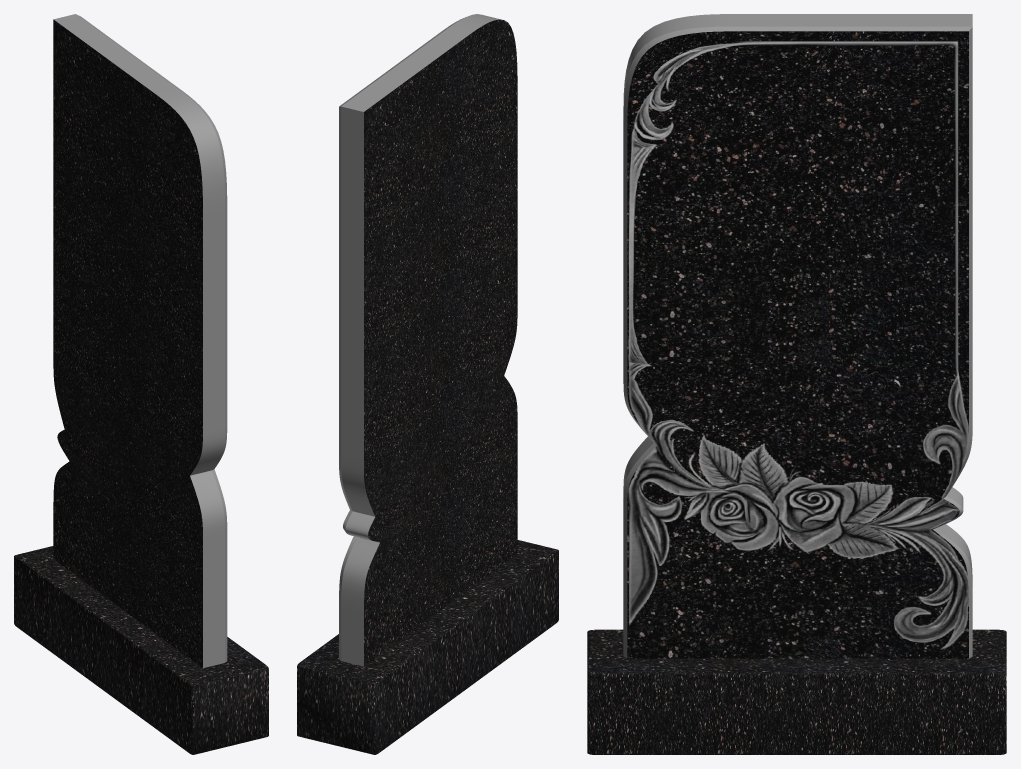
The model's file is Памятник  Роза [granite_1_standard] (100).glb.
3 renders of one model, left to right at view 1: azimuth 30°, elevation 25°; view 2: azimuth 150°, elevation 25°; view 3: azimuth 270°, elevation 25°, orthographic. The views are drawn at different scales.
Parts seen in each view (by area): view 1: Cube.015, Куб.006; view 2: Cube.015, Куб.006; view 3: Cube.015, Куб.006.
Part boxes in pixels (x1=…): Cube.015: x1=53, y1=14, x2=227, y2=668; Куб.006: x1=14, y1=546, x2=268, y2=754; Cube.015: x1=339, y1=14, x2=517, y2=666; Куб.006: x1=297, y1=540, x2=558, y2=754; Cube.015: x1=623, y1=14, x2=972, y2=658; Куб.006: x1=587, y1=629, x2=1006, y2=754.
Bounding box in the file's own units: 0.15 × 1.13 × 0.6.
Materials: 4 (3 with a texture image).
